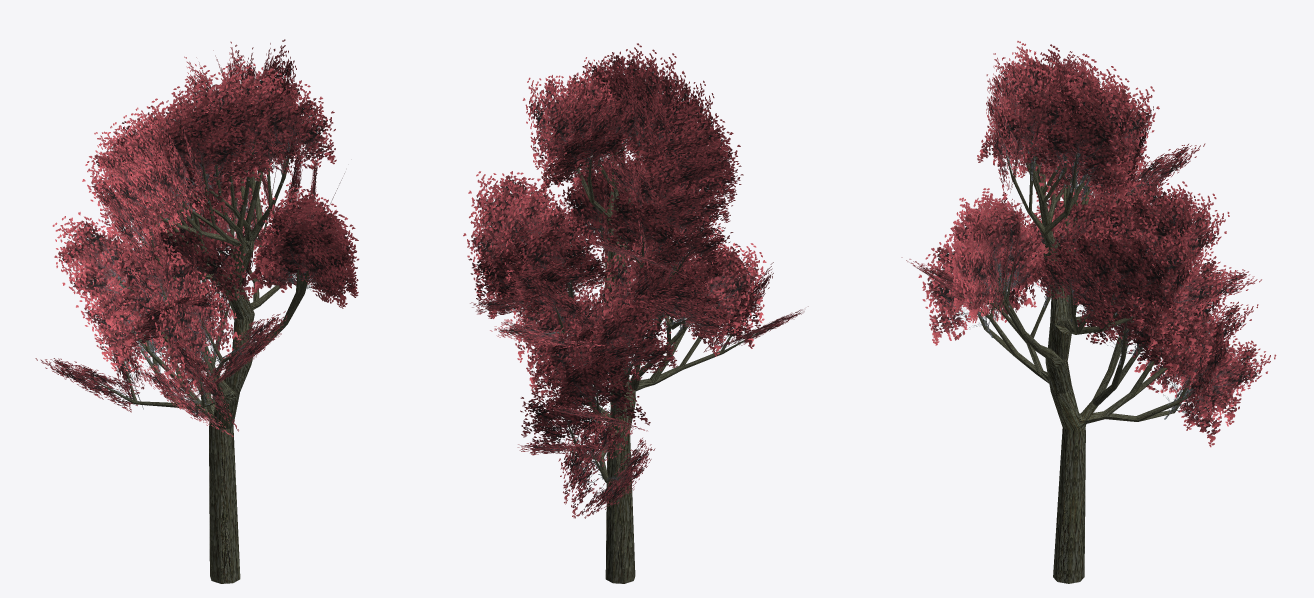
The picture shows the model from 3 angles, left to right: view 1: azimuth 30°, elevation 25°; view 2: azimuth 150°, elevation 25°; view 3: azimuth 270°, elevation 25°; orthographic projection. The views are drawn at different scales.
Parts seen in each view (by area): view 1: twig, tree; view 2: twig, tree; view 3: twig, tree.
Part boxes in pixels (x1=…): twig: x1=35, y1=39, x2=359, y2=436; tree: x1=92, y1=138, x2=329, y2=583; twig: x1=463, y1=43, x2=808, y2=518; tree: x1=520, y1=130, x2=762, y2=583; twig: x1=901, y1=41, x2=1276, y2=447; tree: x1=954, y1=136, x2=1217, y2=583.
Bounding box in the file's own units: 425 × 624 × 447.
2 materials, 2 textured.
